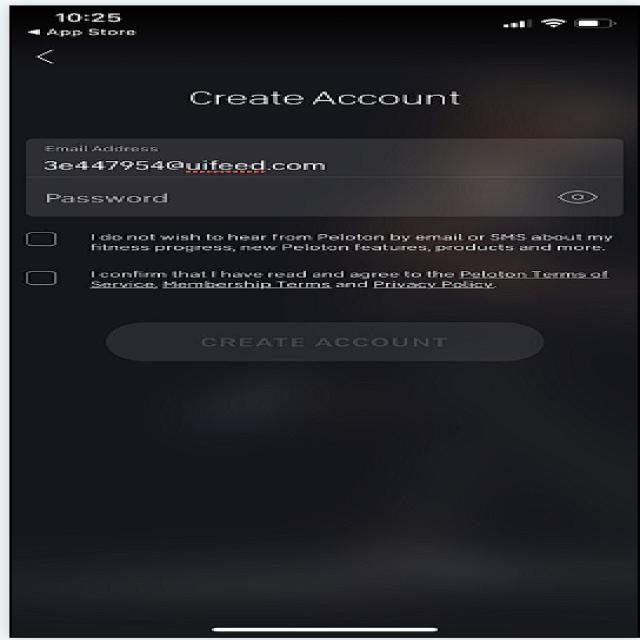button: (83, 314, 560, 368)
icon button: (27, 42, 85, 72)
input: (18, 136, 626, 181), (13, 178, 625, 216)
text: (80, 224, 633, 298), (174, 87, 489, 110)
